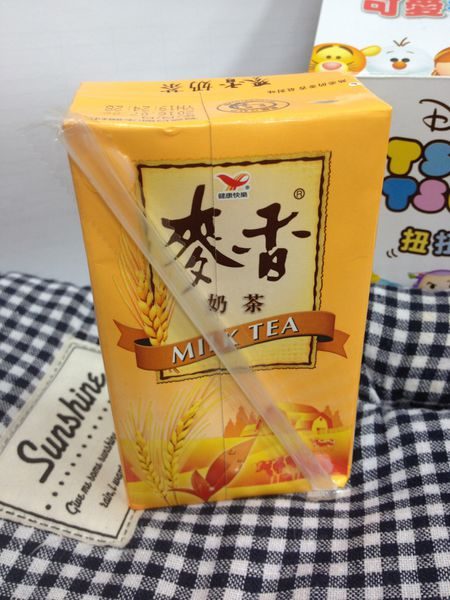milk tea: (67, 79, 391, 501)
